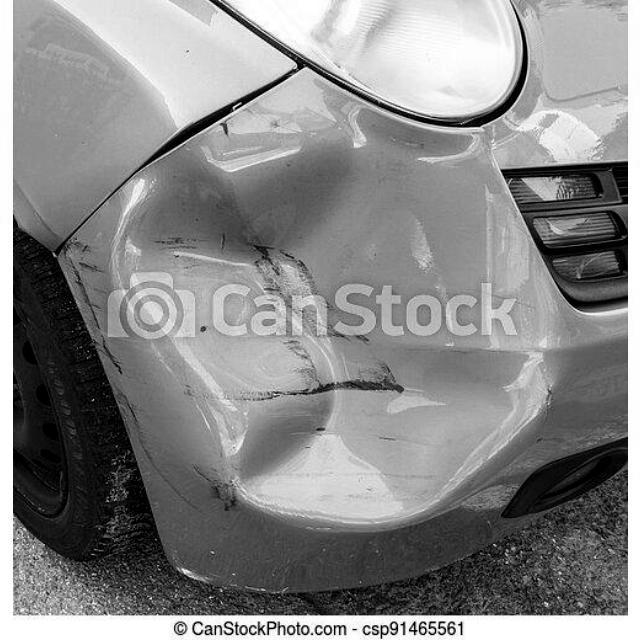front-bumper-dent: (72, 71, 627, 600)
